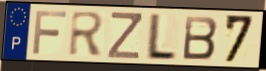7: (222, 13, 255, 65)
B: (181, 14, 220, 61)
F: (31, 9, 69, 56)
L: (143, 11, 179, 62)
R: (67, 10, 106, 58)
Z: (106, 10, 143, 61)
